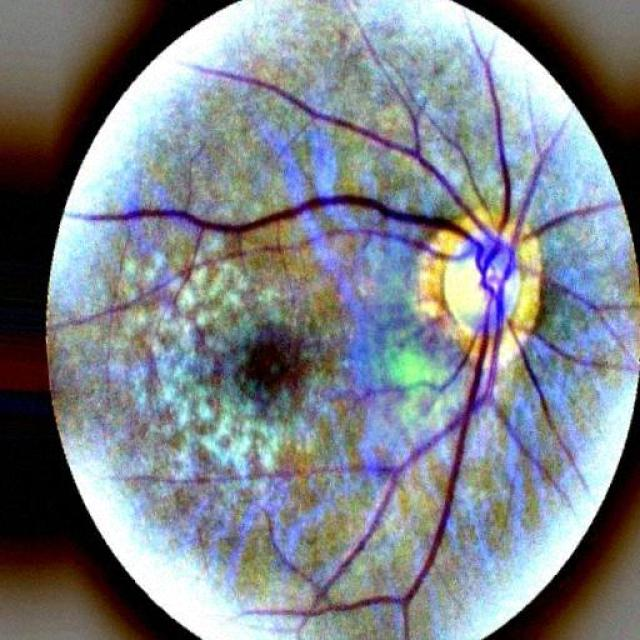Macula: (242, 322, 314, 407)
Nerves: (262, 262, 489, 621), (99, 195, 490, 260)
Optic Disk: (418, 212, 552, 368)
